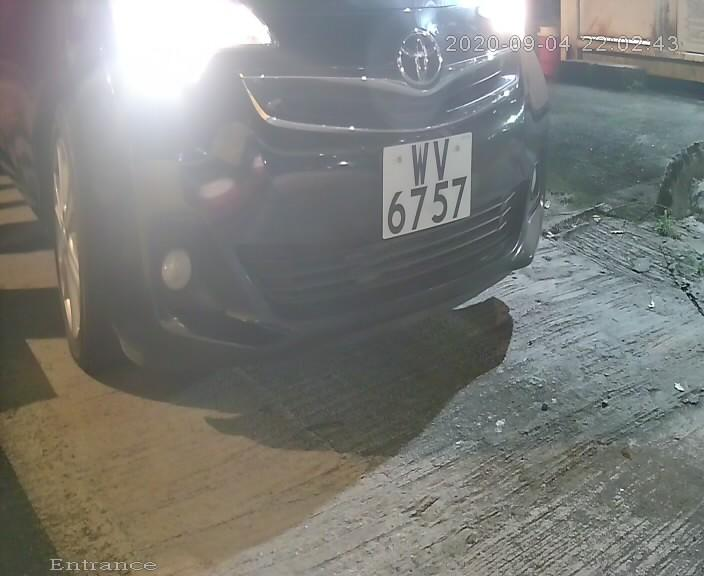License Plate: (365, 116, 488, 255)
